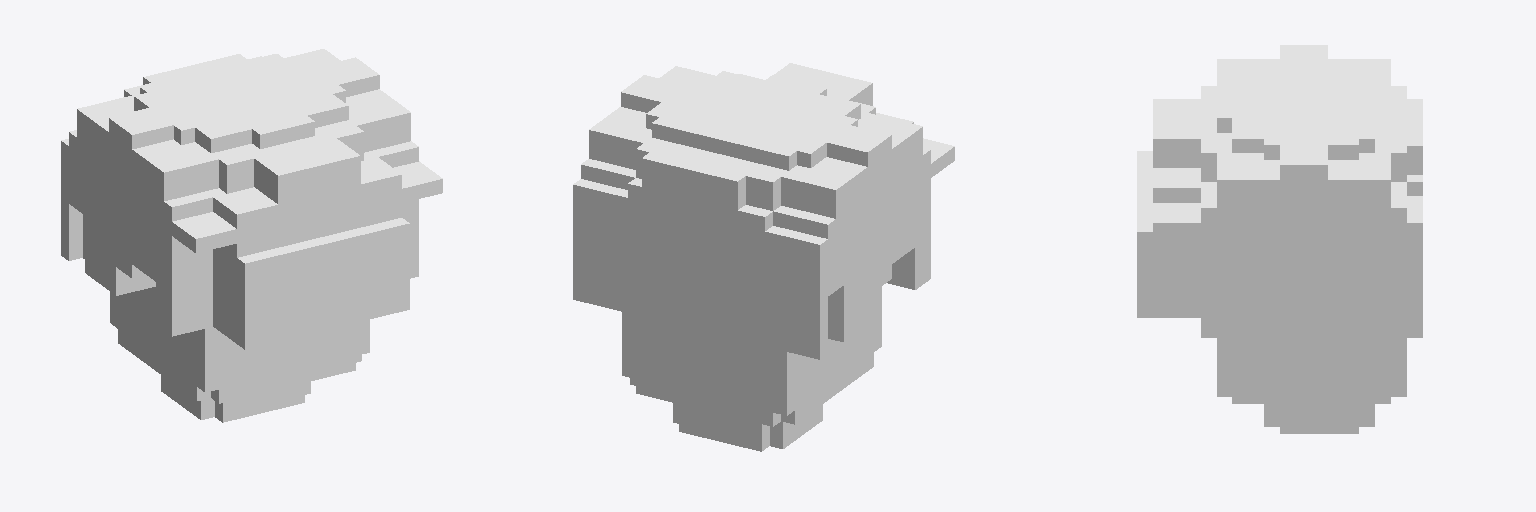
The model's file is HockeyPlayerLeafsHead.obj.
3 renders of one model, left to right at view 1: azimuth 30°, elevation 25°; view 2: azimuth 150°, elevation 25°; view 3: azimuth 270°, elevation 25°, orthographic.
Size of the model in its own units: 18 by 21 by 18.